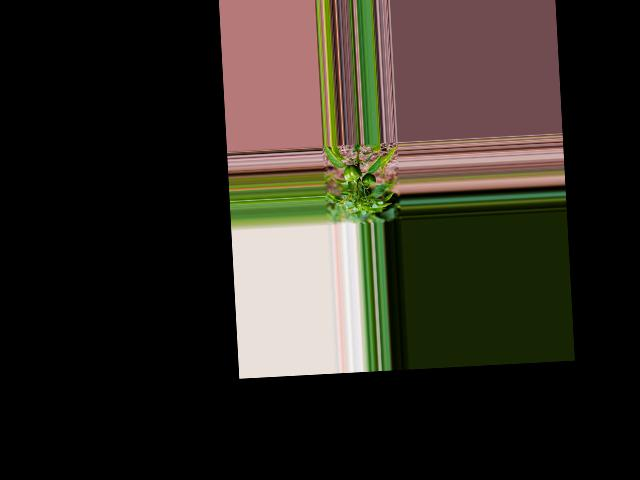bell_pepper: (361, 171, 376, 186)
